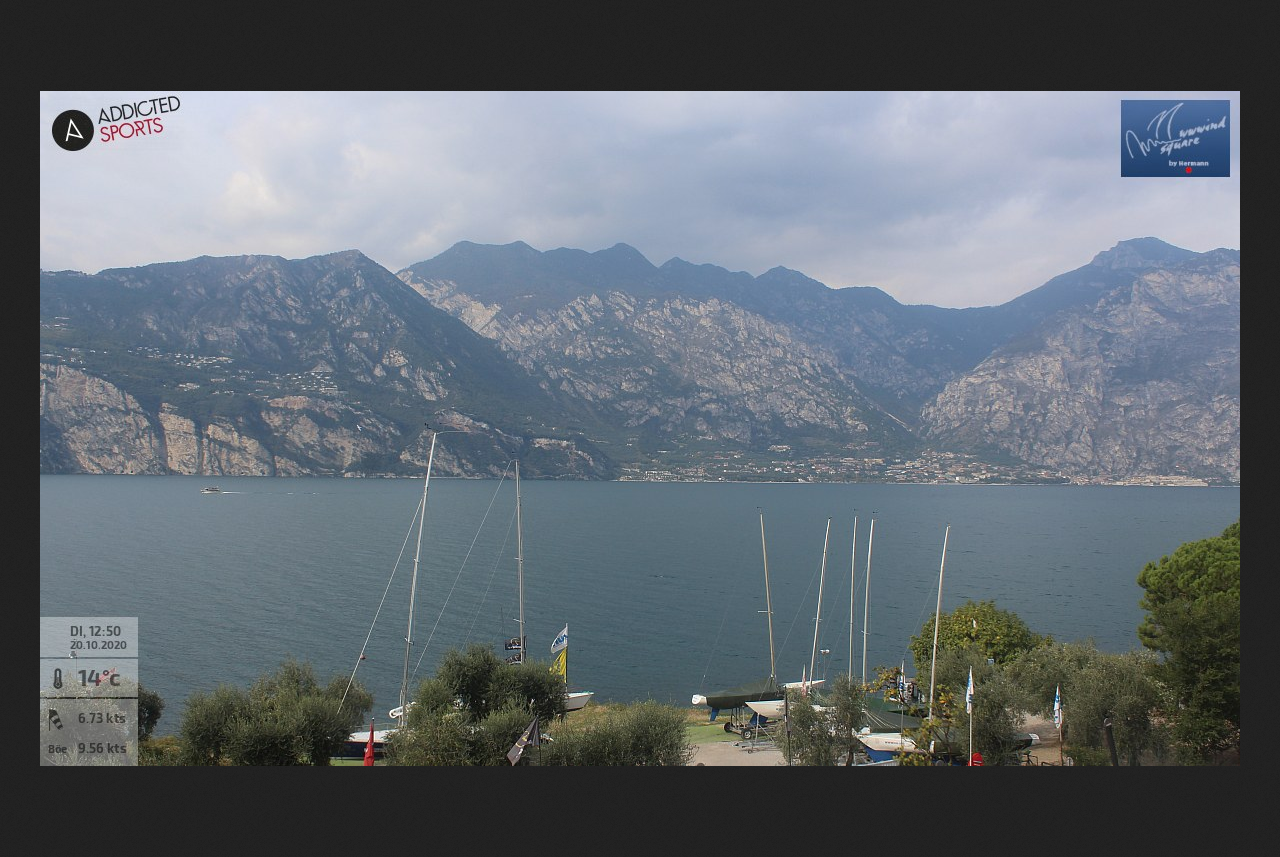maybe: (544, 618, 574, 656), (548, 643, 571, 678)
no: (1050, 677, 1070, 734), (962, 662, 978, 713)
yes: (502, 629, 530, 653)
